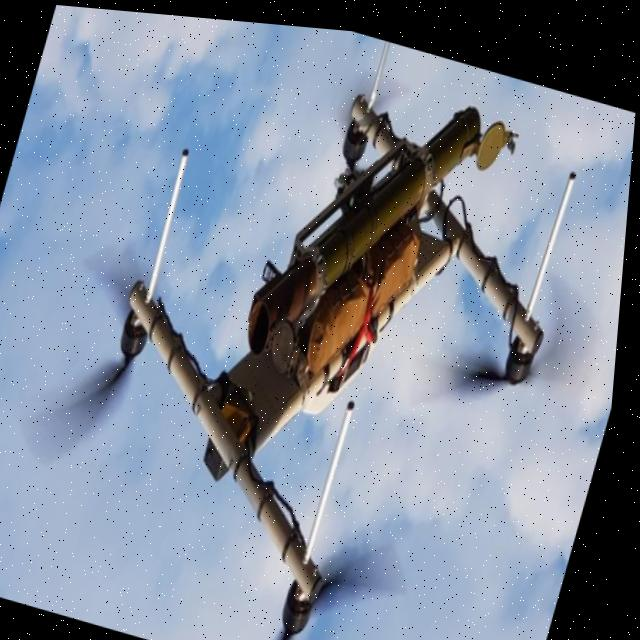drones: (0, 1, 640, 640)
